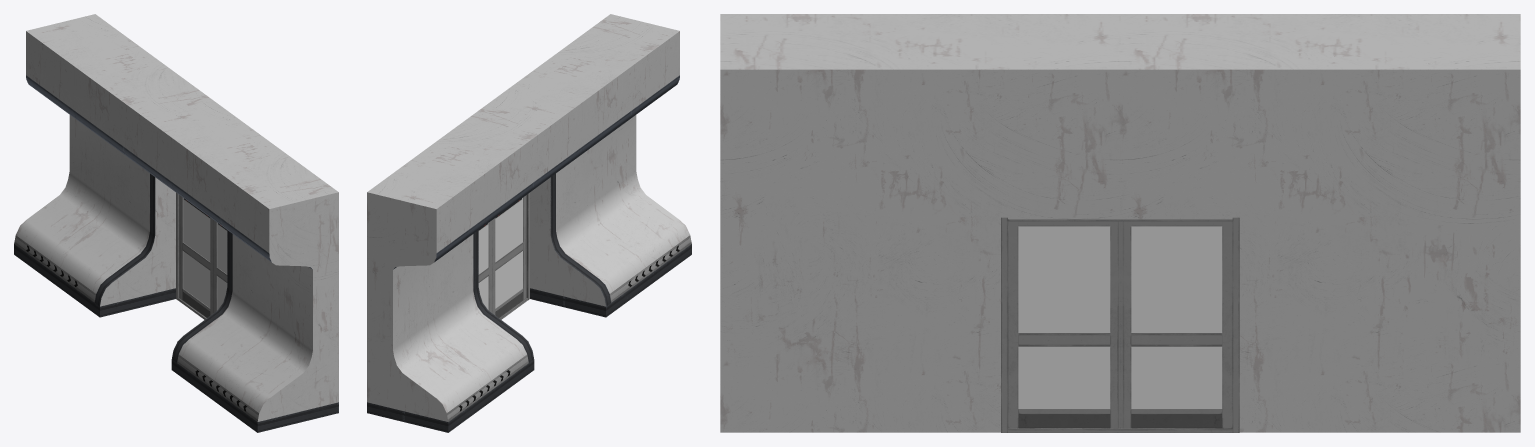
Rendered from CP_Metro_Block_Door_01.fbx.
The picture shows the model from 3 angles, left to right: view 1: azimuth 30°, elevation 25°; view 2: azimuth 150°, elevation 25°; view 3: azimuth 270°, elevation 25°; orthographic projection. The views are drawn at different scales.
Parts seen in each view (by area): view 1: CP_Metro_Block, CP_Metro_Door_02, CP_Metro_Door_01; view 2: CP_Metro_Block, CP_Metro_Door_01, CP_Metro_Door_02; view 3: CP_Metro_Block, CP_Metro_Door_01, CP_Metro_Door_02.
Boxes of the visible parts, x1,y1,x2,y2 form: CP_Metro_Block: (14, 14, 338, 432); CP_Metro_Door_02: (179, 195, 213, 317); CP_Metro_Door_01: (213, 220, 227, 312); CP_Metro_Block: (367, 14, 691, 432); CP_Metro_Door_01: (492, 195, 526, 317); CP_Metro_Door_02: (478, 220, 492, 312); CP_Metro_Block: (720, 14, 1520, 432); CP_Metro_Door_01: (1008, 221, 1120, 428); CP_Metro_Door_02: (1120, 221, 1232, 428).
Bounding box in the file's own units: 193 × 501 × 1000.
